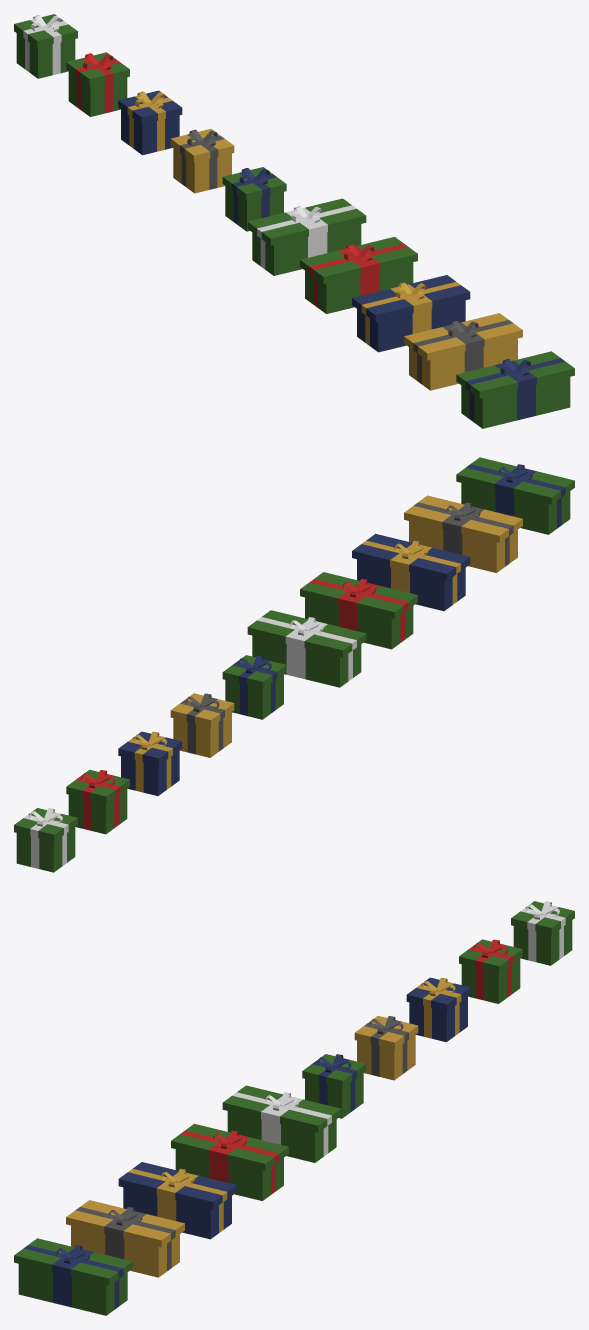
The model's file is Gifts.fbx.
The picture shows the model from 3 angles, top to bottom: view 1: azimuth 30°, elevation 25°; view 2: azimuth 150°, elevation 25°; view 3: azimuth 330°, elevation 25°; orthographic projection.
Parts seen in each view (by area): view 1: Gifts_010, Gifts_06, Gifts_09, Gifts_08, Gifts_07, Gifts_01, Gifts_02, Gifts_04, Gifts_03, Gifts_05; view 2: Gifts_06, Gifts_010, Gifts_09, Gifts_08, Gifts_07, Gifts_01, Gifts_02, Gifts_04, Gifts_03, Gifts_05; view 3: Gifts_010, Gifts_06, Gifts_09, Gifts_08, Gifts_07, Gifts_01, Gifts_02, Gifts_04, Gifts_03, Gifts_05.
Part boxes in pixels (left/top/right/bottom): Gifts_010: left=456, top=351, right=574, bottom=428; Gifts_06: left=247, top=198, right=366, bottom=275; Gifts_09: left=404, top=313, right=522, bottom=390; Gifts_08: left=352, top=275, right=470, bottom=352; Gifts_07: left=300, top=237, right=417, bottom=313; Gifts_01: left=14, top=14, right=77, bottom=78; Gifts_02: left=66, top=52, right=129, bottom=116; Gifts_04: left=170, top=129, right=234, bottom=193; Gifts_03: left=118, top=90, right=182, bottom=155; Gifts_05: left=222, top=167, right=286, bottom=231; Gifts_06: left=247, top=610, right=366, bottom=687; Gifts_010: left=456, top=457, right=574, bottom=534; Gifts_09: left=404, top=495, right=522, bottom=572; Gifts_08: left=352, top=533, right=470, bottom=611; Gifts_07: left=300, top=572, right=417, bottom=649; Gifts_01: left=14, top=808, right=77, bottom=872; Gifts_02: left=66, top=769, right=129, bottom=834; Gifts_04: left=170, top=693, right=234, bottom=757; Gifts_03: left=118, top=731, right=182, bottom=795; Gifts_05: left=222, top=655, right=286, bottom=719; Gifts_010: left=14, top=1238, right=132, bottom=1315; Gifts_06: left=222, top=1085, right=341, bottom=1162; Gifts_09: left=66, top=1200, right=184, bottom=1277; Gifts_08: left=118, top=1162, right=236, bottom=1239; Gifts_07: left=171, top=1124, right=288, bottom=1200; Gifts_01: left=511, top=901, right=574, bottom=965; Gifts_02: left=459, top=939, right=522, bottom=1003; Gifts_04: left=354, top=1016, right=418, bottom=1080; Gifts_03: left=406, top=977, right=470, bottom=1042; Gifts_05: left=302, top=1054, right=366, bottom=1118.
Bounding box in the file's own units: 70.78 × 32.48 × 633.
